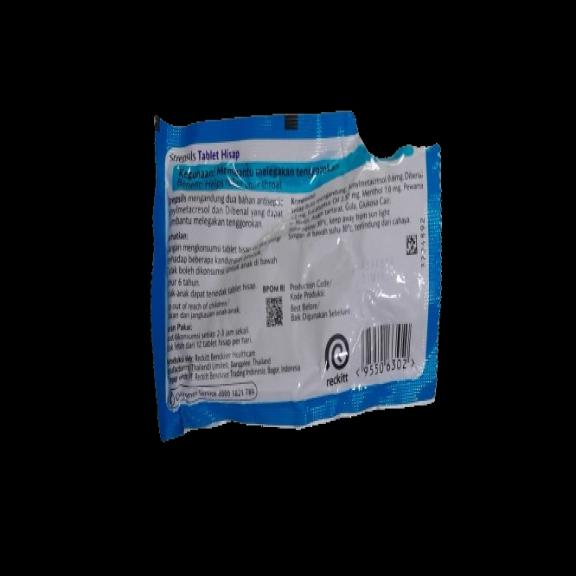Plastik: (146, 99, 445, 444)
